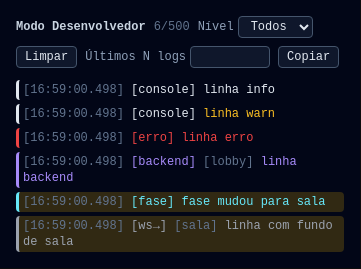
Test: painel — render e filtro por nível › filtro por nível esconde as linhas dos outros níveis
Select "Warn" in the dropdown named "Filtro por nível" at [275, 27], box [238,16,313,38]
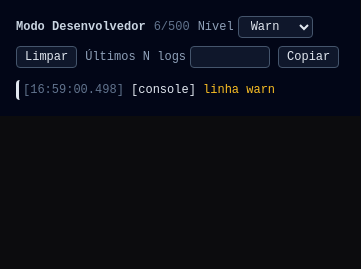
Expected: the number of list items with test id "linha-de-depuracao" is 1, [16,80,344,100]
Expected: the list item "linha info" is gone
Expected: the list item "linha erro" is gone
